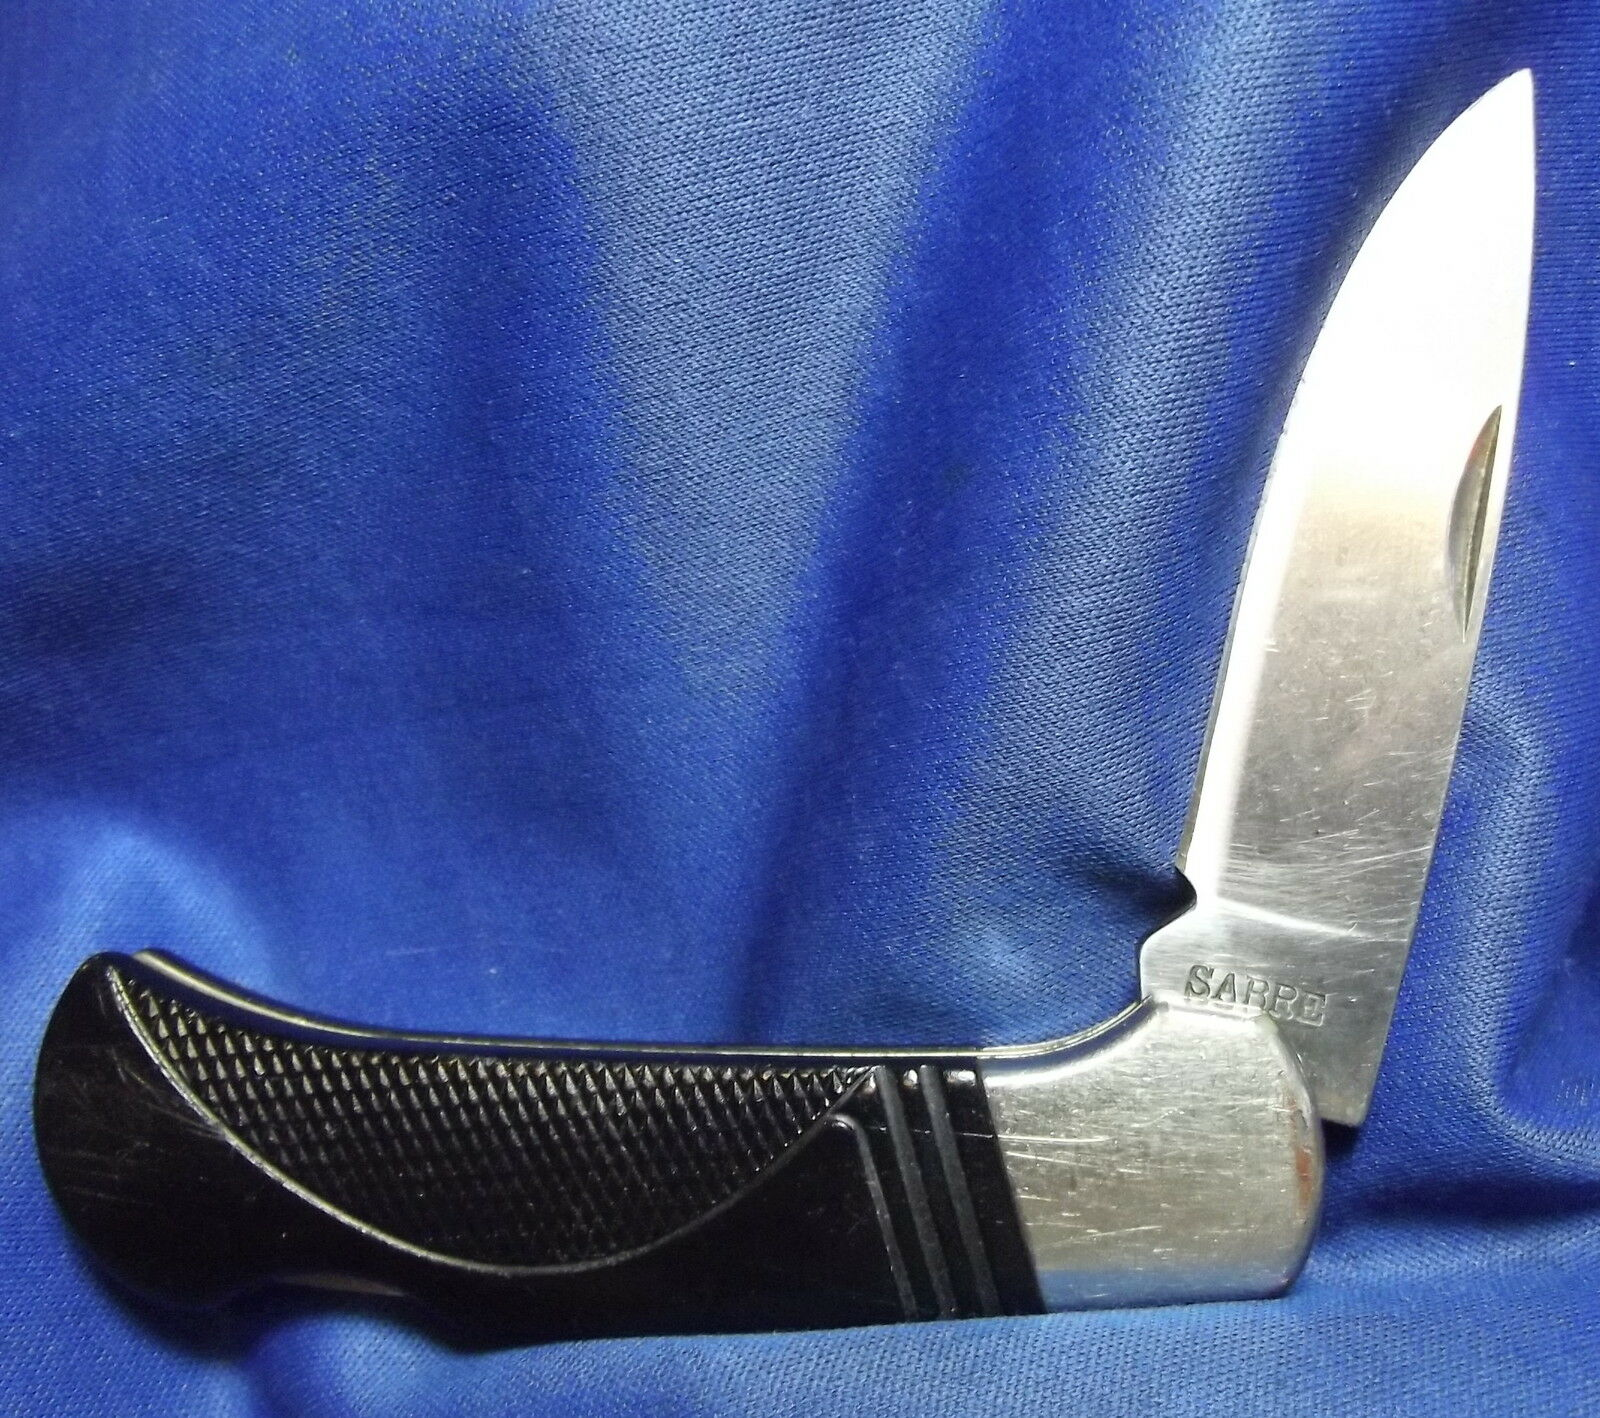knief: (94, 82, 1545, 1285)
